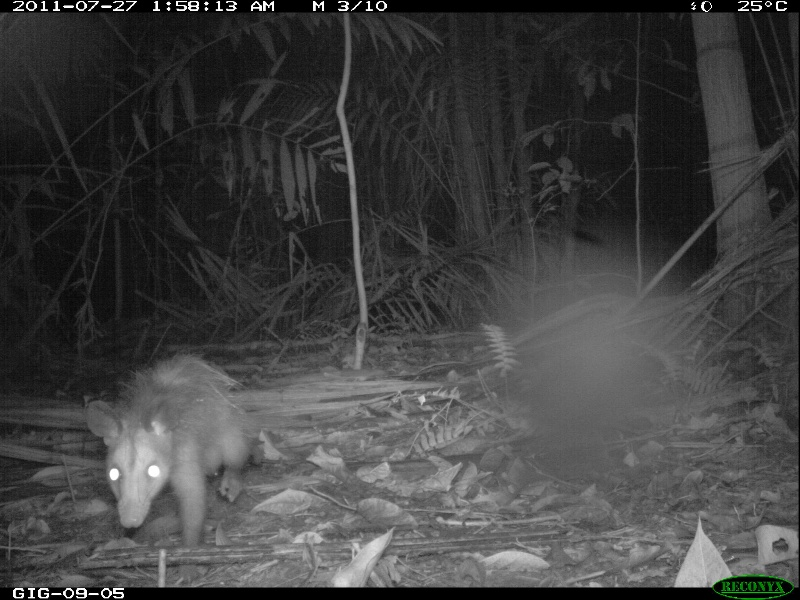opossum: (81, 353, 266, 557)
